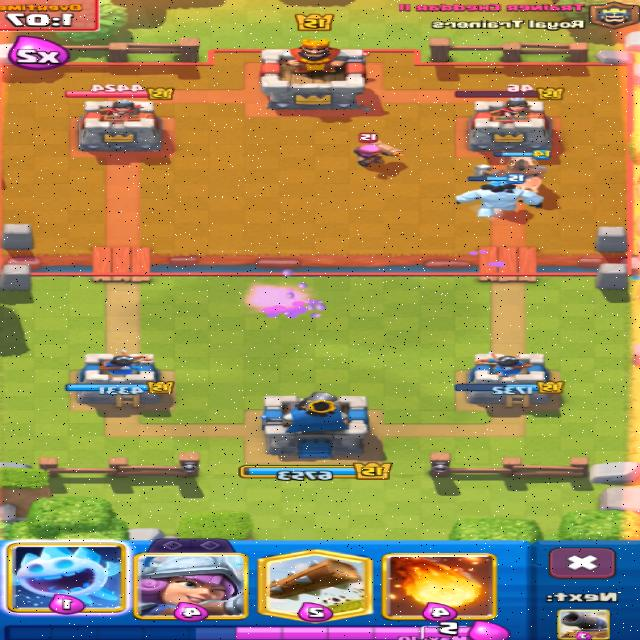Enemy-Firecracker: (356, 134, 402, 166)
Enemy-KingTower: (261, 39, 366, 109)
Enemy-PrincessTower: (80, 99, 162, 153), (469, 101, 550, 155)
Player-HogRider: (475, 158, 547, 192)
Player-IceGolem: (456, 180, 543, 218)
Player-KingTower-Activated: (261, 392, 369, 459)
Player-PrincessTower: (67, 351, 173, 408), (456, 353, 565, 406)
